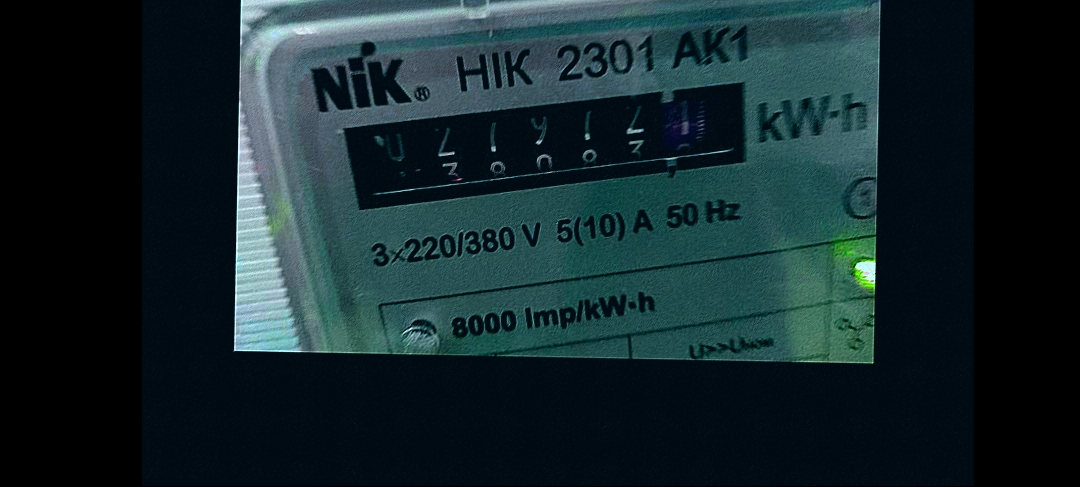0: (380, 126, 409, 163)
1: (674, 95, 696, 138)
2: (429, 118, 459, 158), (620, 98, 648, 135)
7: (572, 102, 599, 144), (479, 116, 503, 154)
9: (526, 110, 553, 146)
screen: (325, 64, 780, 227)
